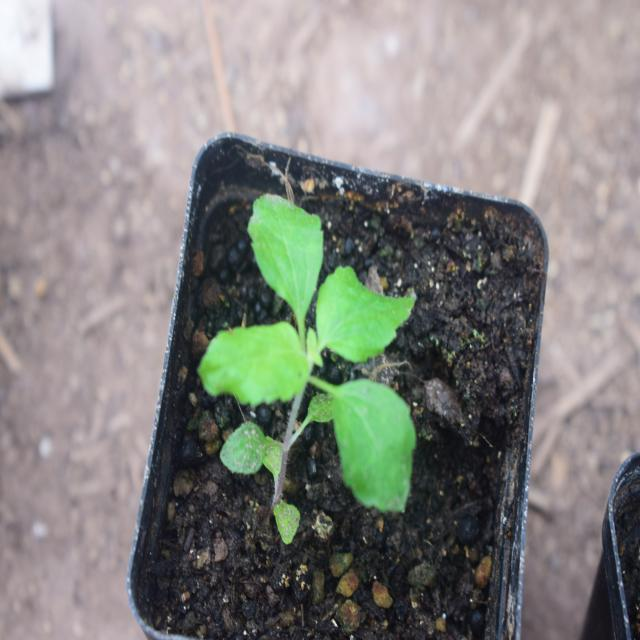billygoat_weed: (203, 179, 410, 525)
